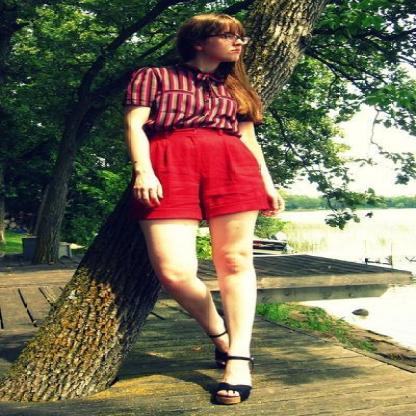shirt: (129, 62, 257, 140)
shoe: (218, 385, 258, 402)
shorts: (144, 128, 280, 224)
